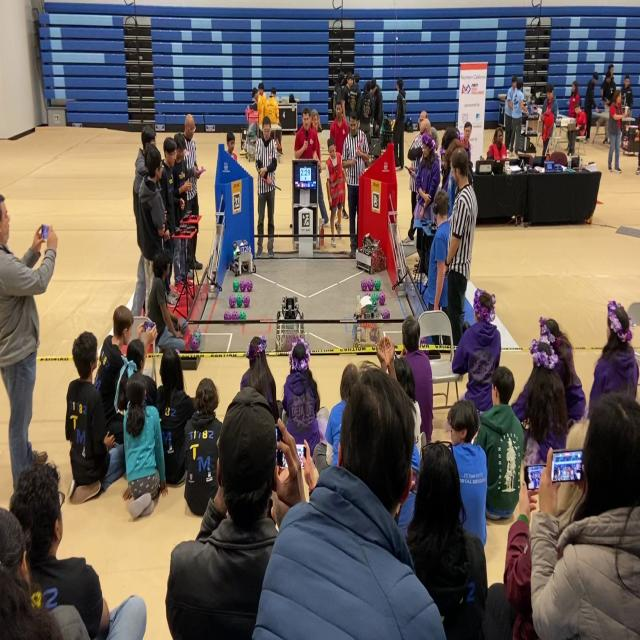artifact_green: (233, 279, 240, 292), (370, 330, 377, 342), (420, 337, 428, 346), (240, 280, 246, 292), (371, 293, 378, 303), (375, 279, 381, 290), (368, 279, 374, 290), (232, 311, 238, 321), (194, 329, 200, 339), (239, 312, 246, 320)
artifact_purple: (189, 335, 199, 351), (194, 329, 201, 346), (379, 292, 386, 306), (243, 295, 250, 308), (236, 294, 243, 307), (370, 330, 377, 341), (382, 310, 390, 319), (229, 296, 235, 308), (246, 280, 252, 292), (361, 279, 367, 291), (224, 311, 231, 321), (371, 293, 378, 303), (240, 281, 246, 292), (368, 279, 374, 290), (420, 338, 428, 346), (232, 311, 238, 321)
